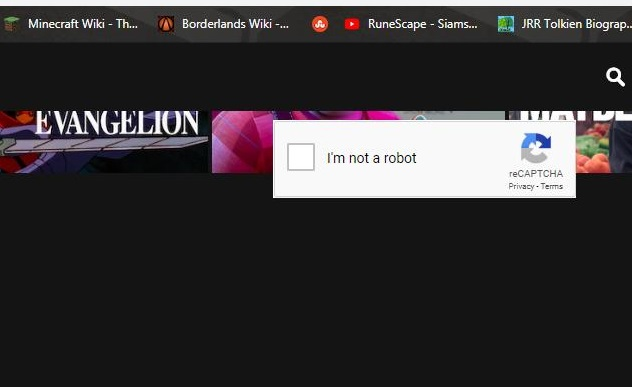captcha: (287, 143, 420, 171)
